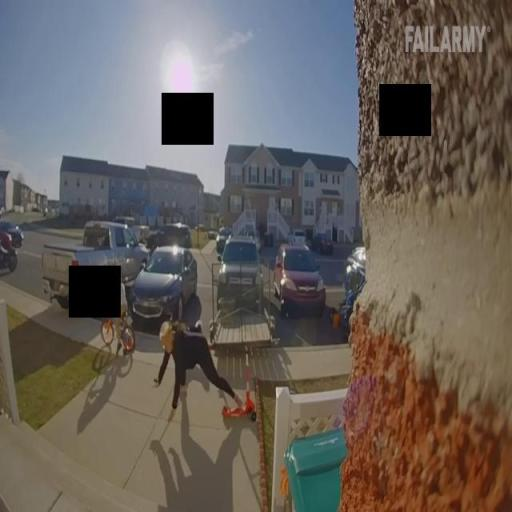Fall: (154, 318, 244, 423)
